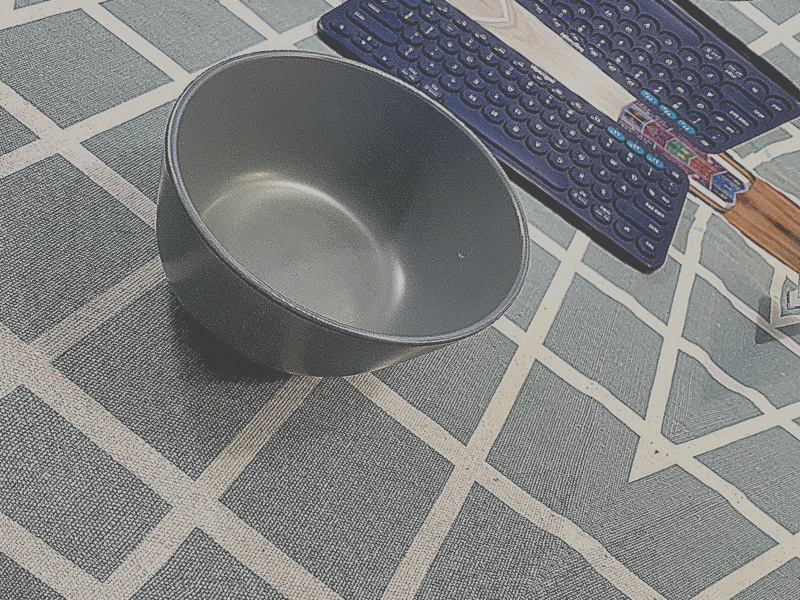bowl_big: (49, 0, 597, 466)
